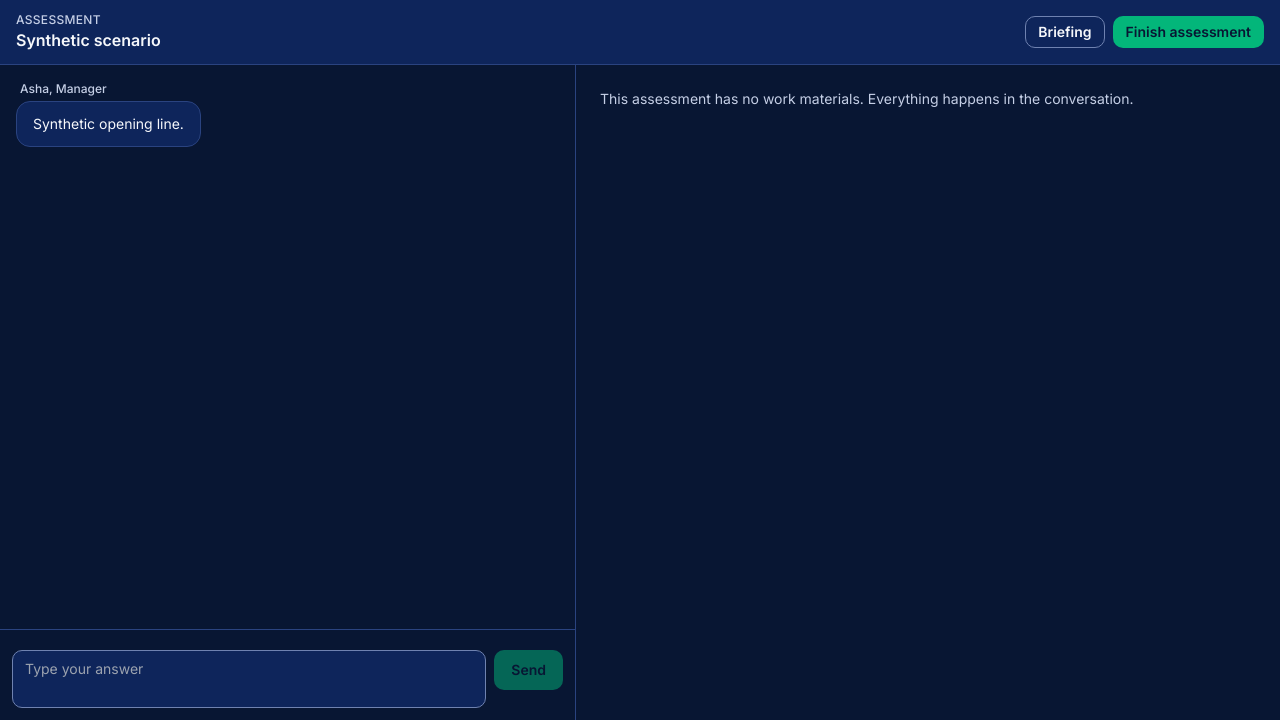
Test: AssessmentWorkspace (fail closed) › an empty reply adds no participant line
Expected: the text "Synthetic opening line." is shown, x1=16 y1=101 x2=201 y2=147
Type "Hello" into the text box with placeholder "Type your answer".
click(249, 679); type("Hello")  # box x1=12 y1=650 x2=486 y2=708
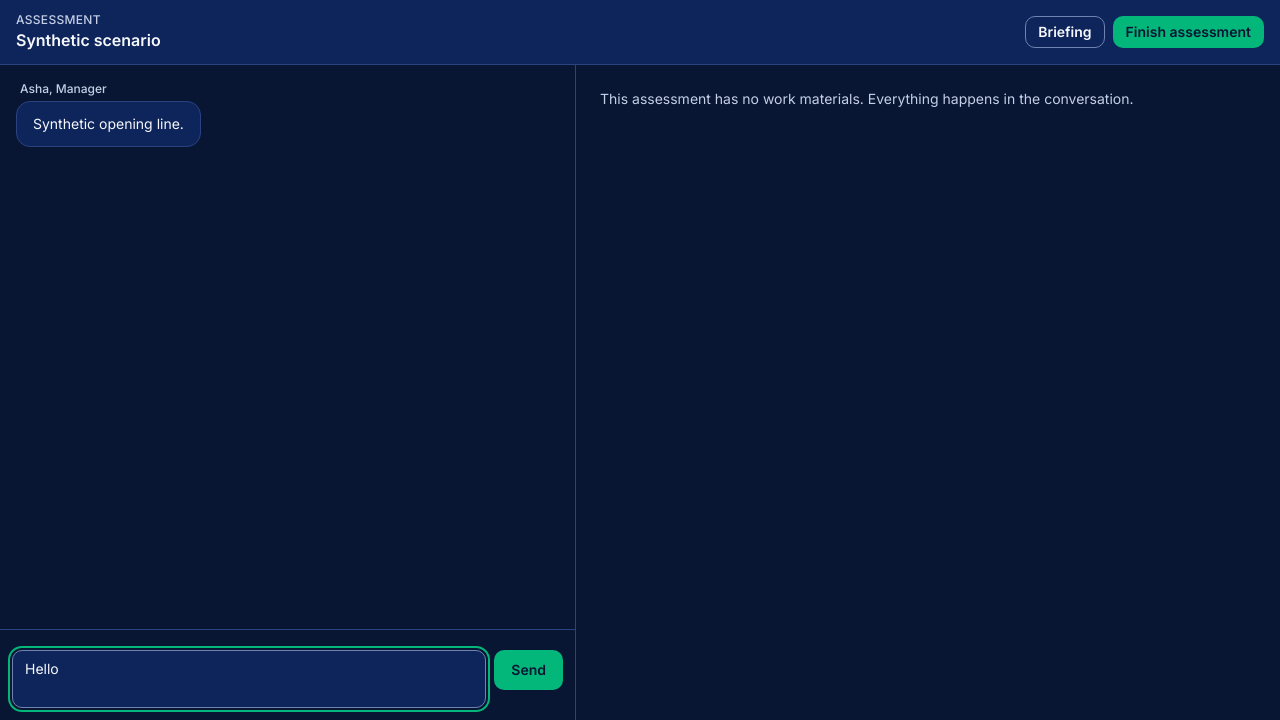
Click the button "Send".
click(529, 670)  # box x1=494 y1=650 x2=563 y2=690
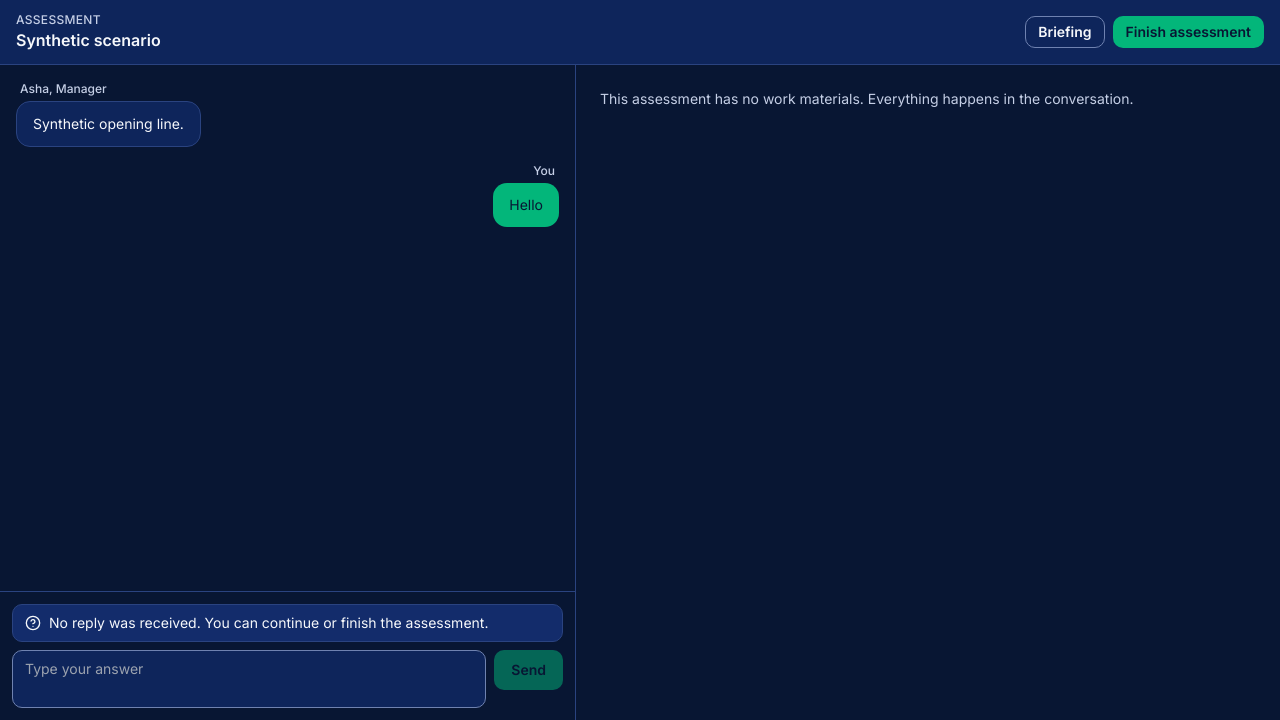
Expected: the text "No reply was received" is shown, x1=49 y1=614 x2=488 y2=631
Expected: the text "Hello" is shown, x1=493 y1=183 x2=559 y2=227
Expected: the text box labelled "your answer" is empty, x1=12 y1=650 x2=486 y2=708
